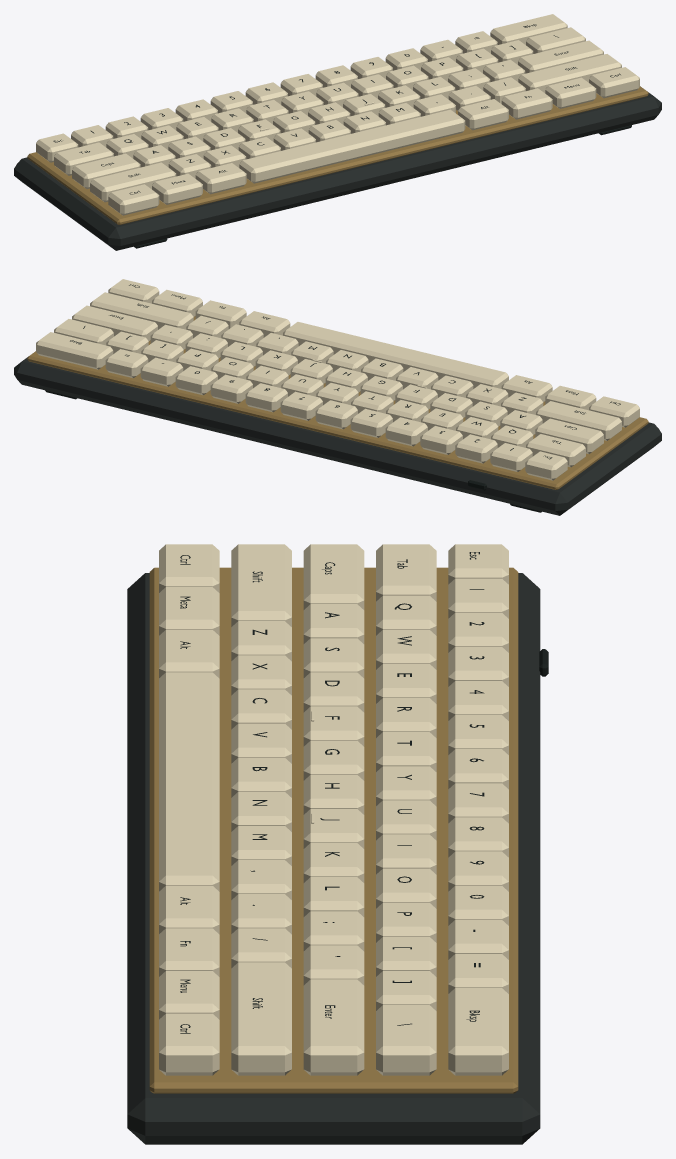
File: keyboard.glb
3 renders of one model, top to bottom at view 1: azimuth 30°, elevation 25°; view 2: azimuth 150°, elevation 25°; view 3: azimuth 270°, elevation 25°, orthographic. The views are drawn at different scales.
Parts seen in each view (by area): view 1: part::keyboard/keyboard-lower-chassis-001, part::keyboard/keyboard-brass-switch-plate-001, part::keyboard/r5-k04-cap, part::keyboard/r4-k12-cap, part::keyboard/r4-k01-cap, part::keyboard/r3-k13-cap, part::keyboard/r1-k14-cap, part::keyboard/r3-k01-cap, part::keyboard/r5-k01-cap, part::keyboard/r5-k07-cap, part::keyboard/r5-k06-cap, part::keyboard/r5-k03-cap (+51 smaller); view 2: part::keyboard/keyboard-lower-chassis-001, part::keyboard/keyboard-brass-switch-plate-001, part::keyboard/r5-k04-cap, part::keyboard/r1-k14-cap, part::keyboard/r4-k12-cap, part::keyboard/r4-k01-cap, part::keyboard/r3-k13-cap, part::keyboard/r3-k01-cap, part::keyboard/r2-k01-cap, part::keyboard/r2-k14-cap, part::keyboard/r1-k01-cap, part::keyboard/r1-k12-cap (+51 smaller); view 3: part::keyboard/keyboard-lower-chassis-001, part::keyboard/keyboard-brass-switch-plate-001, part::keyboard/r5-k04-cap, part::keyboard/r4-k12-cap, part::keyboard/r3-k13-cap, part::keyboard/r1-k14-cap, part::keyboard/r4-k01-cap, part::keyboard/r2-k14-cap, part::keyboard/r5-k08-cap, part::keyboard/r3-k01-cap, part::keyboard/r2-k01-cap, part::keyboard/r5-k05-cap (+51 smaller).
Boxes of the visible parts, box(x1,y1,x2,y2) form: part::keyboard/keyboard-lower-chassis-001: box(14, 91, 661, 250); part::keyboard/keyboard-brass-switch-plate-001: box(27, 86, 648, 224); part::keyboard/r5-k04-cap: box(239, 109, 465, 183); part::keyboard/r4-k12-cap: box(518, 54, 621, 93); part::keyboard/r4-k01-cap: box(90, 162, 176, 202); part::keyboard/r3-k13-cap: box(518, 40, 603, 73); part::keyboard/r1-k14-cap: box(490, 14, 567, 44); part::keyboard/r3-k01-cap: box(72, 153, 140, 188); part::keyboard/r5-k01-cap: box(108, 184, 159, 215); part::keyboard/r5-k07-cap: box(545, 77, 596, 108); part::keyboard/r5-k06-cap: box(501, 88, 552, 119); part::keyboard/r5-k03-cap: box(195, 163, 246, 194); part::keyboard/keyboard-lower-chassis-001: box(14, 356, 661, 515); part::keyboard/keyboard-brass-switch-plate-001: box(27, 316, 648, 489); part::keyboard/r5-k04-cap: box(283, 322, 508, 388); part::keyboard/r1-k14-cap: box(36, 332, 113, 369); part::keyboard/r4-k12-cap: box(90, 292, 193, 329); part::keyboard/r4-k01-cap: box(536, 401, 621, 440); part::keyboard/r3-k13-cap: box(72, 305, 157, 341); part::keyboard/r3-k01-cap: box(535, 418, 603, 453); part::keyboard/r2-k01-cap: box(526, 434, 585, 467); part::keyboard/r2-k14-cap: box(54, 319, 113, 345); part::keyboard/r1-k01-cap: box(525, 451, 567, 480); part::keyboard/r1-k12-cap: box(140, 357, 183, 386); part::keyboard/keyboard-lower-chassis-001: box(127, 573, 540, 1144); part::keyboard/keyboard-brass-switch-plate-001: box(149, 567, 518, 1093); part::keyboard/r5-k04-cap: box(159, 672, 219, 891); part::keyboard/r4-k12-cap: box(231, 962, 291, 1075); part::keyboard/r3-k13-cap: box(303, 979, 364, 1075); part::keyboard/r1-k14-cap: box(448, 988, 508, 1075); part::keyboard/r4-k01-cap: box(231, 544, 291, 626); part::keyboard/r2-k14-cap: box(376, 1005, 436, 1075); part::keyboard/r5-k08-cap: box(159, 1013, 219, 1075); part::keyboard/r3-k01-cap: box(303, 544, 364, 609); part::keyboard/r2-k01-cap: box(376, 544, 436, 601); part::keyboard/r5-k05-cap: box(159, 885, 219, 934).
Size of the model in its own units: 0.548 by 0.0466 by 0.1805.
